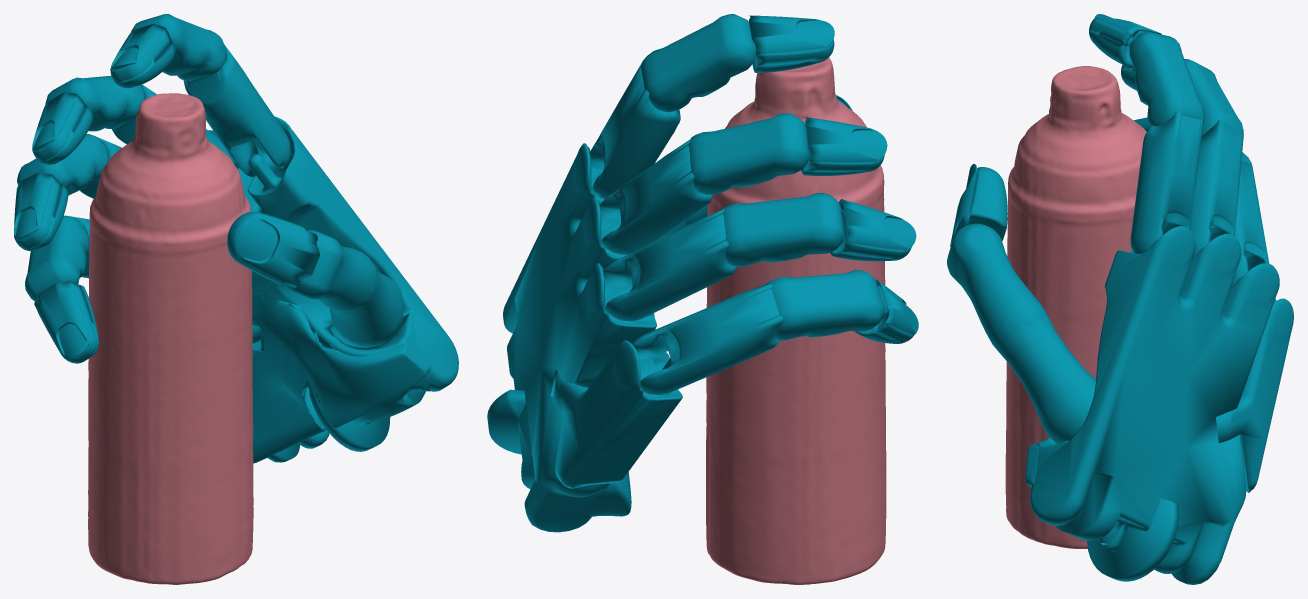
The picture shows the model from 3 angles, left to right: view 1: azimuth 30°, elevation 25°; view 2: azimuth 150°, elevation 25°; view 3: azimuth 270°, elevation 25°; orthographic projection. The views are drawn at different scales.
Parts seen in each view (by area): view 1: world; view 2: world; view 3: world.
Boxes of the visible parts, x1,y1,x2,y2 form: world: (14, 14, 458, 584); world: (487, 14, 918, 584); world: (947, 14, 1293, 584).
Size of the model in its own units: 0.1604 by 0.192 by 0.1209.
